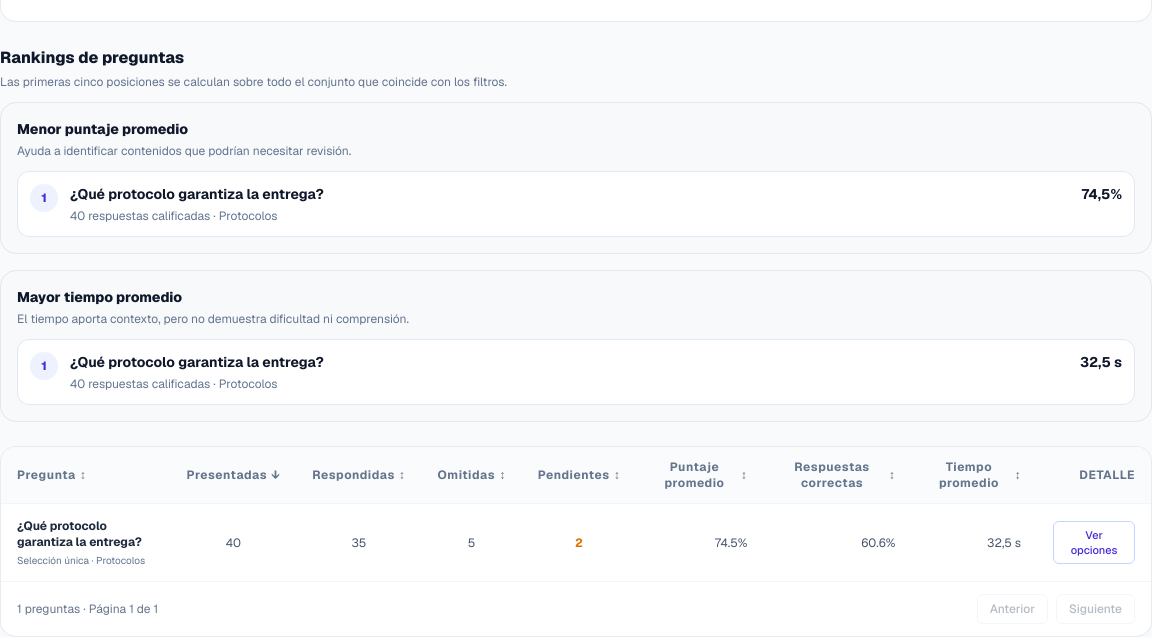
it: reportes docentes › mantiene QUESTION_OPTION_EVIDENCE_INCONSISTENT dentro del panel de opciones
(page scrolled)
Click the button "Ver opciones" at (1094, 543), box [1053,521,1135,564]
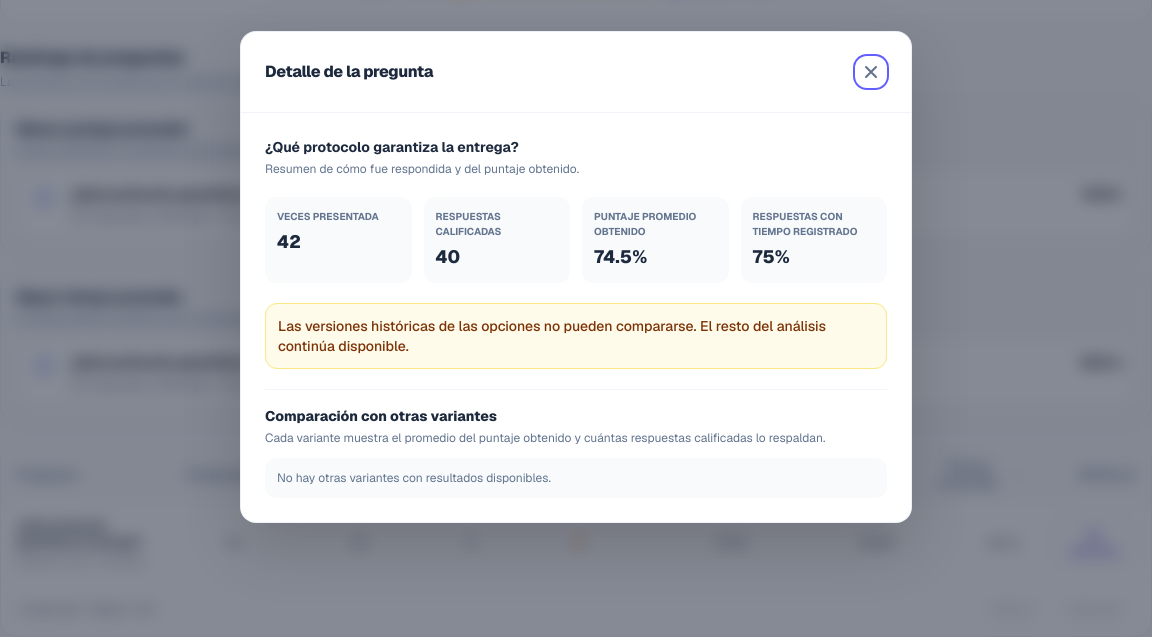
Expected: the text "Las versiones históricas de las opciones no pueden compararse" is shown, [278,317,826,355]
